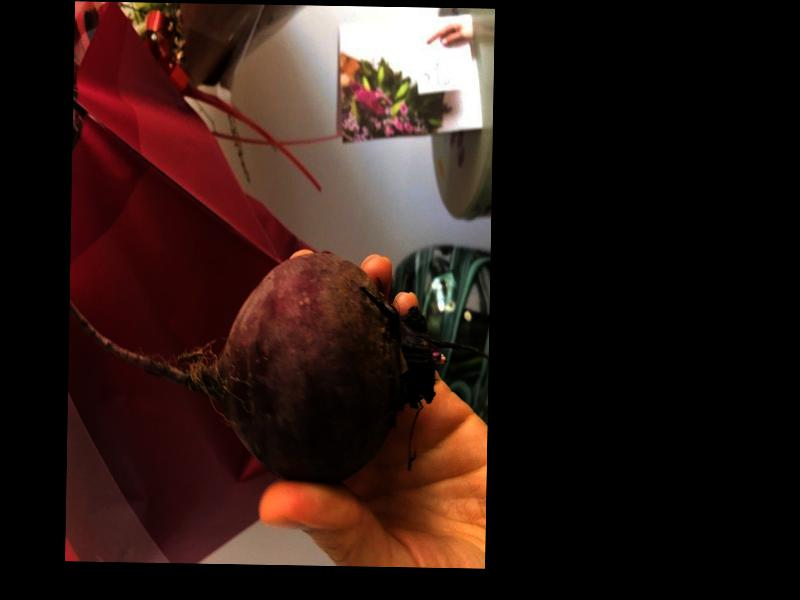Beet: (68, 247, 487, 486)
